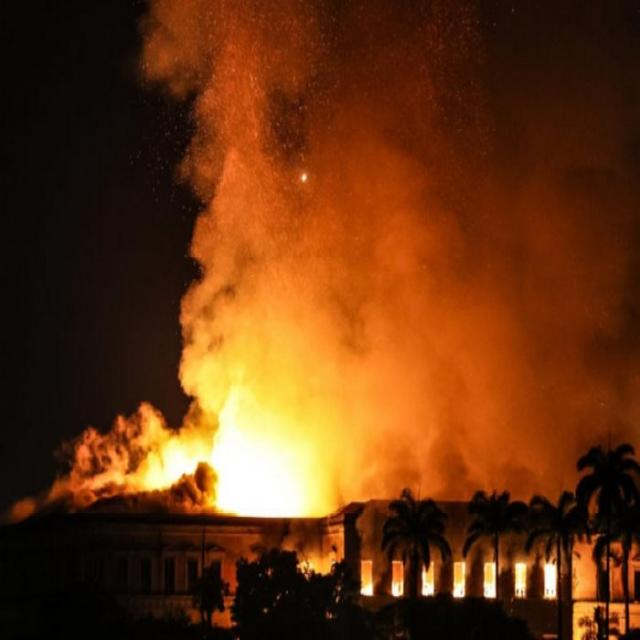Fire: (208, 397, 331, 522), (93, 406, 219, 511)
Smoke: (154, 0, 635, 446)
